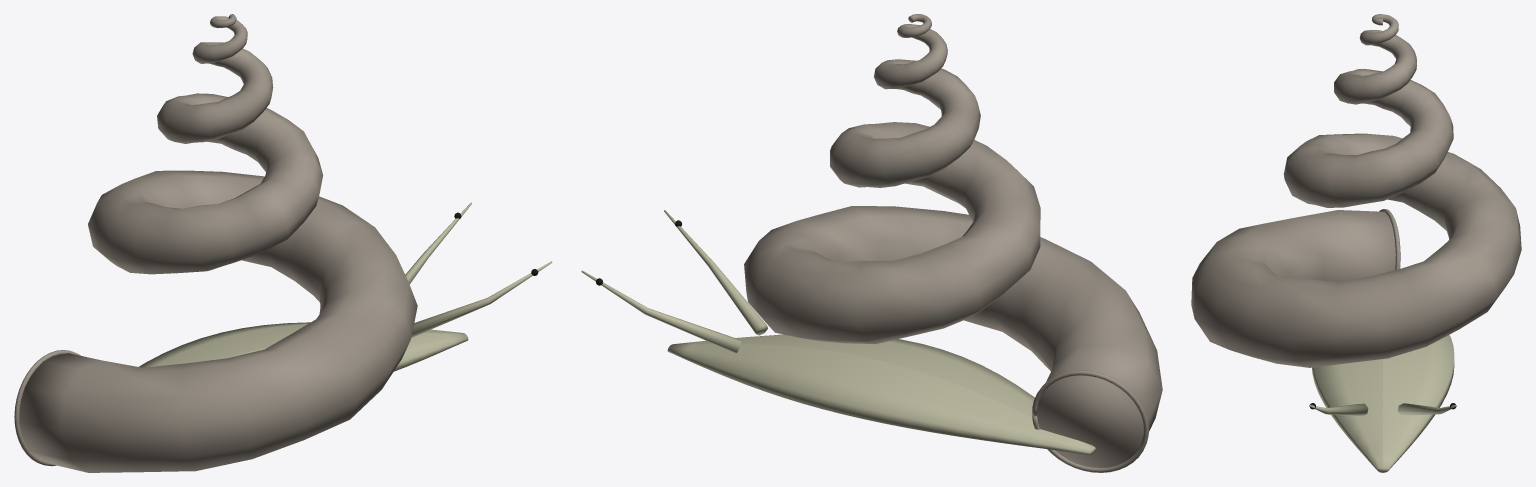
The model's file is trochus-mobile.glb.
The picture shows the model from 3 angles, left to right: view 1: azimuth 30°, elevation 25°; view 2: azimuth 150°, elevation 25°; view 3: azimuth 270°, elevation 25°; orthographic projection. The views are drawn at different scales.
Parts seen in each view (by area): view 1: continuous-whorled-shell, muscular-foot, cephalic-tentacle, aperture-lip; view 2: continuous-whorled-shell, muscular-foot, cephalic-tentacle, aperture-lip; view 3: continuous-whorled-shell, muscular-foot, cephalic-tentacle, aperture-lip.
Part boxes in pixels (left/top/right/bottom): continuous-whorled-shell: left=19, top=14, right=417, bottom=472; muscular-foot: left=139, top=322, right=468, bottom=371; cephalic-tentacle: left=405, top=202, right=552, bottom=337; aperture-lip: left=14, top=350, right=80, bottom=466; continuous-whorled-shell: left=744, top=14, right=1162, bottom=467; muscular-foot: left=667, top=334, right=1095, bottom=455; cephalic-tentacle: left=581, top=210, right=767, bottom=353; aperture-lip: left=1032, top=370, right=1148, bottom=472; continuous-whorled-shell: left=1191, top=14, right=1521, bottom=367; muscular-foot: left=1312, top=334, right=1454, bottom=472; cephalic-tentacle: left=1309, top=403, right=1457, bottom=416; aperture-lip: left=1379, top=209, right=1400, bottom=269.
Size of the model in its own units: 0.6513 by 0.4989 by 0.405.
